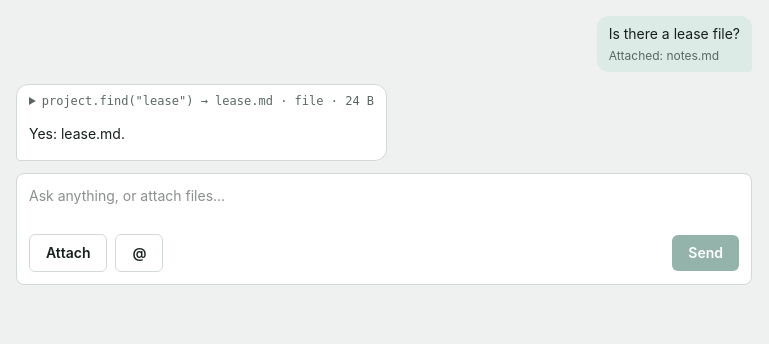
it: Adding files already in the project › @ opens the project's files, filters as you type, and Enter attaches one
The width and height of the screenshot is (769, 344).
Check: the text "Yes: lease.md." is shown, box [29,125,125,142]
Type "read @lea" into the text box named "Message".
click(384, 206); type("read @lea")  # box [29,186,739,226]
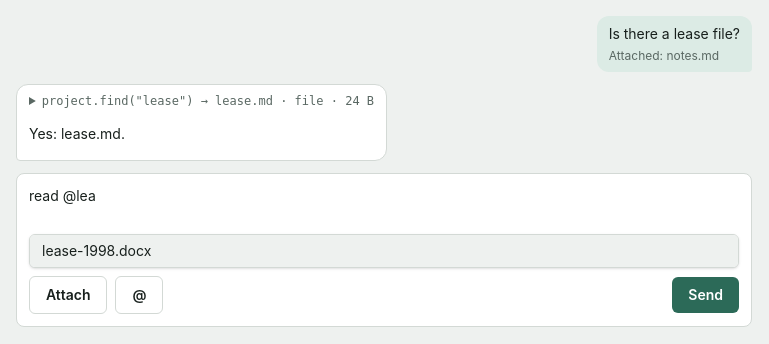
Check: the options read "lease-1998.docx", in this order, box [30,235,738,267]
Press Enter in the text box named "Message", box [29,186,739,226]
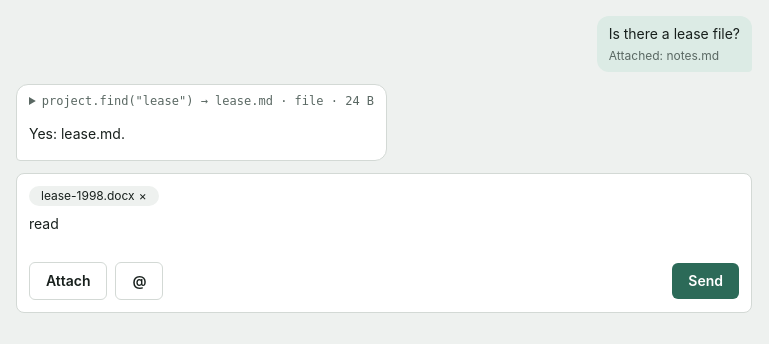
Check: the button named "Remove lease-1998.docx" is shown, box [139,188,147,204]
Check: the text box named "Message" holds "read ", box [29,214,739,254]
